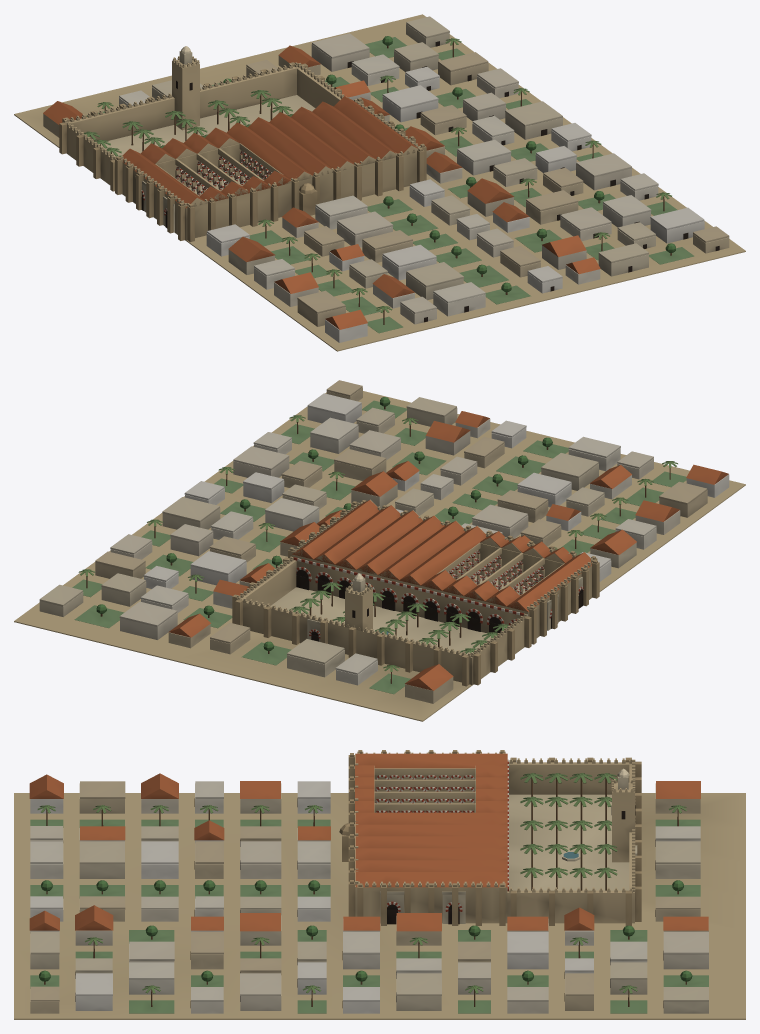
File: mezquita-786.glb
The picture shows the model from 3 angles, top to bottom: view 1: azimuth 30°, elevation 25°; view 2: azimuth 150°, elevation 25°; view 3: azimuth 270°, elevation 25°; orthographic projection. The views are drawn at different scales.
Parts seen in each view (by area): view 1: p0_ground, p1_hall, p2_tower; view 2: p0_ground, p1_hall, p2_tower; view 3: p0_ground, p1_hall, p2_tower.
Part boxes in pixels (bbox=[...]): p0_ground: bbox=[14, 14, 745, 351]; p1_hall: bbox=[59, 62, 426, 242]; p2_tower: bbox=[172, 46, 199, 130]; p0_ground: bbox=[14, 380, 745, 721]; p1_hall: bbox=[232, 499, 599, 686]; p2_tower: bbox=[345, 573, 372, 631]; p0_ground: bbox=[14, 773, 745, 1019]; p1_hall: bbox=[339, 750, 641, 925]; p2_tower: bbox=[611, 768, 635, 862].
Size of the model in its own units: 132 by 24.3 by 178.
